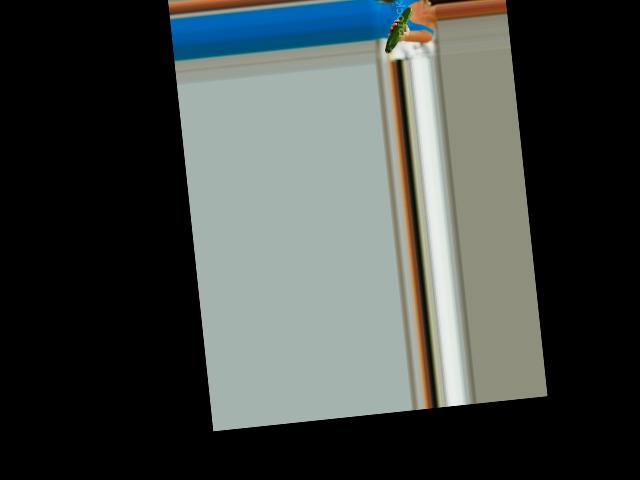cucumber: (380, 6, 415, 53)
